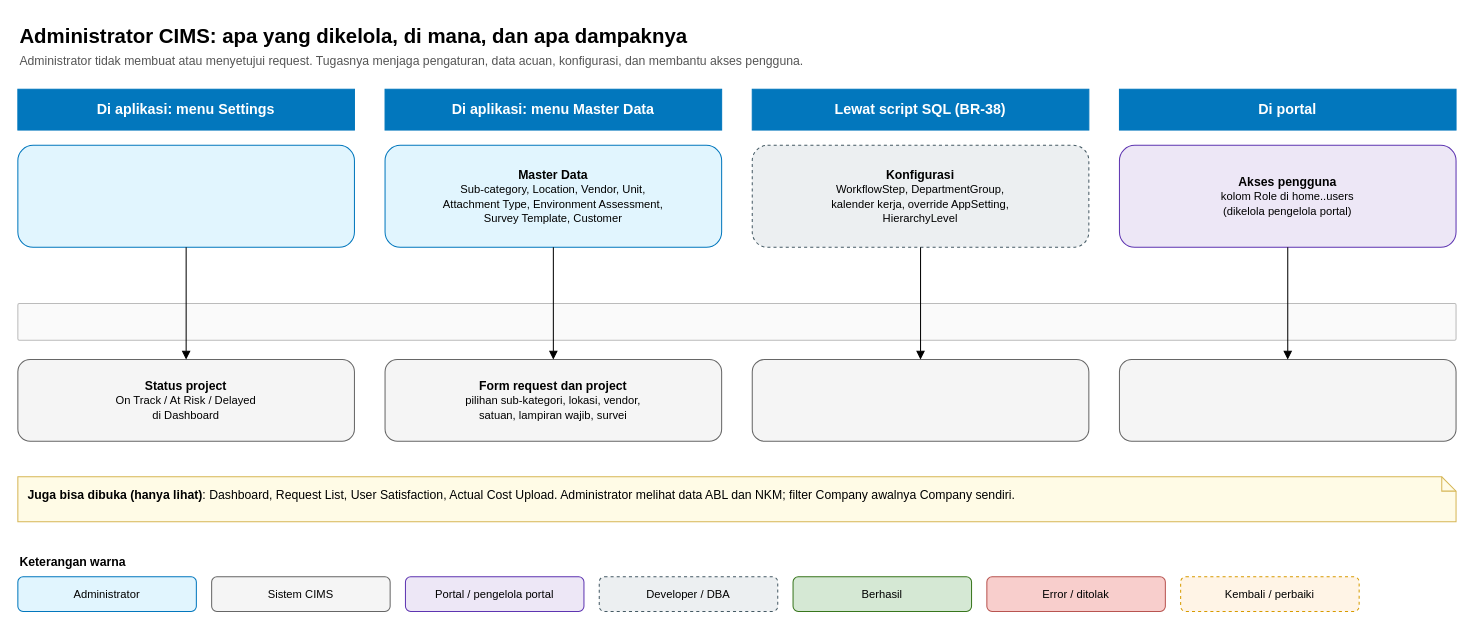
This 1474x629 diagram has some shape labels left out. Each missing label, with the centre of its shape:
"Alur approval siapa menyetujui, urutan, hari kerja, grup Mill" belongs at [920,400].
"Dampak pada alur CIMS" belongs at [736,321].
"Settings batas waktu Emergency, ambang status jadwal dan biaya" belongs at [185,195].
"Siapa boleh masuk menu, tombol, dan lingkup data setiap pengguna" belongs at [1287,400].
